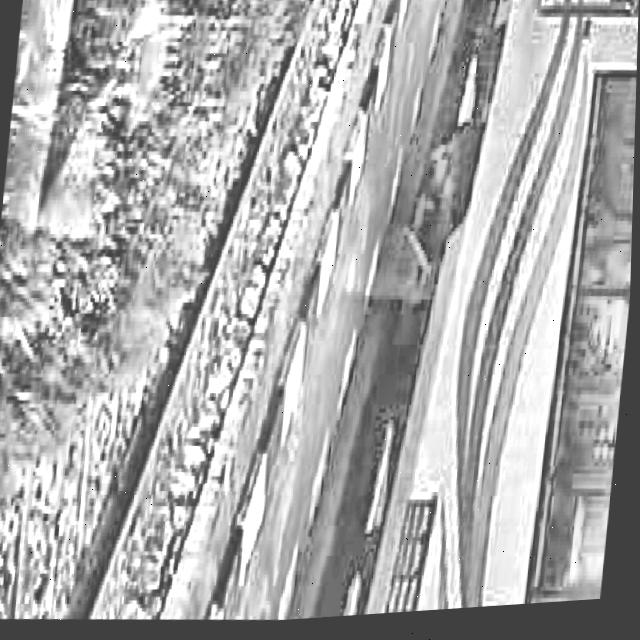Kereta: (223, 0, 640, 628), (476, 0, 640, 96)
